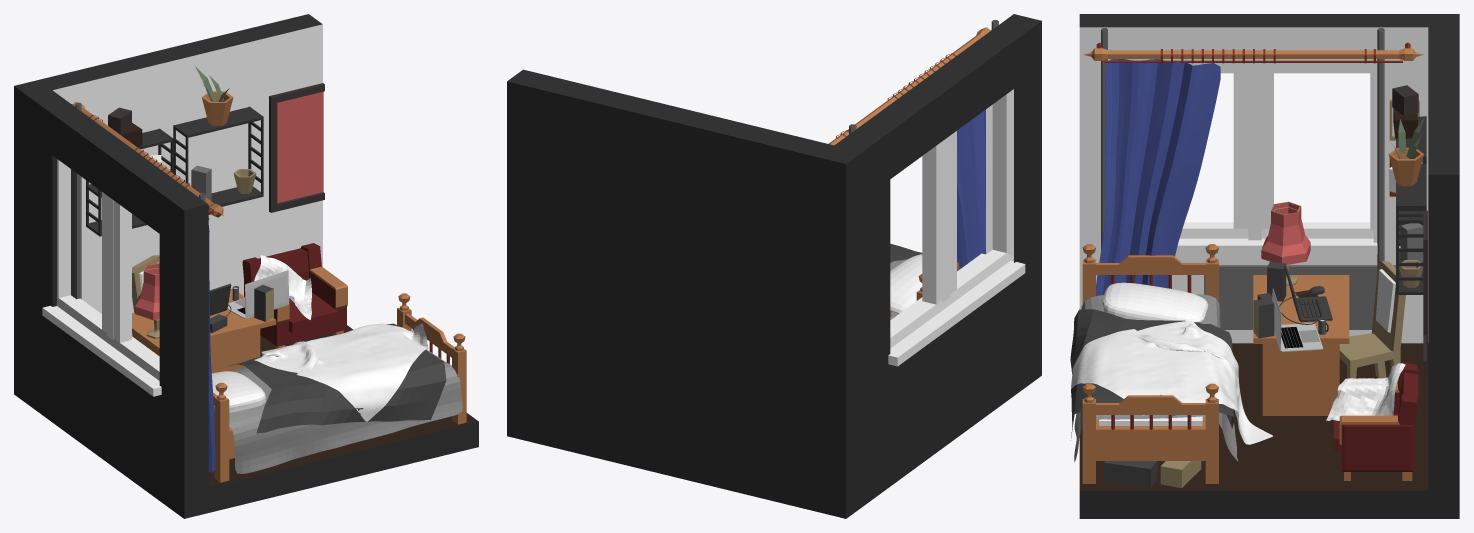
Rendered from isometric_test.glb.
3 views of the same model, side by side, from view 1: azimuth 30°, elevation 25°; view 2: azimuth 150°, elevation 25°; view 3: azimuth 270°, elevation 25° (orthographic). The views are drawn at different scales.
Parts seen in each view (by area): view 1: Cube_2, Cube_0, Plane.007_0, Cube.023_0, Cube.011_0, Cube.007_0, Cube.037_1, Cube.021_0, Cube.001_0, Cube_1, Cube.010_0, Cube.037_0 (+17 smaller); view 2: Cube_2, Cube.011_0, Cylinder.006_0, Cube.010_0, Cube.012_0, Cube.008_0, Cube_0, Cylinder.004_0; view 3: Cube_2, Cube_0, Cylinder.006_0, Cube_1, Plane.007_0, Cube.001_0, Cube.011_0, Cube.021_0, Cube.016_0, Cube.003_0, Cube.009_0, Cube.023_0 (+31 smaller).
Boxes of the visible parts, left/top/right/bottom form: Cube_2: left=14, top=14, right=478, bottom=518; Cube_0: left=53, top=24, right=322, bottom=335; Plane.007_0: left=254, top=323, right=428, bottom=421; Cube.023_0: left=229, top=323, right=446, bottom=433; Cube.011_0: left=56, top=159, right=159, bottom=380; Cube.007_0: left=229, top=349, right=462, bottom=473; Cube.037_1: left=277, top=91, right=323, bottom=203; Cube.021_0: left=242, top=243, right=346, bottom=346; Cube.001_0: left=132, top=288, right=276, bottom=373; Cube_1: left=208, top=325, right=478, bottom=487; Cube.010_0: left=42, top=298, right=161, bottom=396; Cube.037_0: left=269, top=83, right=324, bottom=212; Cube_2: left=507, top=14, right=1041, bottom=518; Cube.011_0: left=890, top=89, right=1013, bottom=348; Cylinder.006_0: left=957, top=109, right=985, bottom=271; Cube.010_0: left=888, top=253, right=1025, bottom=366; Cube.012_0: left=890, top=254, right=922, bottom=313; Cube.008_0: left=942, top=136, right=949, bottom=302; Cube_0: left=986, top=105, right=1013, bottom=261; Cylinder.004_0: left=828, top=27, right=991, bottom=145; Cube_2: left=1079, top=14, right=1459, bottom=518; Cube_0: left=1079, top=27, right=1428, bottom=343; Cylinder.006_0: left=1096, top=59, right=1220, bottom=295; Cube_1: left=1079, top=343, right=1428, bottom=490; Plane.007_0: left=1071, top=321, right=1272, bottom=444; Cube.001_0: left=1253, top=275, right=1349, bottom=415; Cube.011_0: left=1179, top=73, right=1373, bottom=238; Cube.021_0: left=1334, top=362, right=1418, bottom=471; Cube.016_0: left=1204, top=265, right=1395, bottom=329; Cube.003_0: left=1096, top=417, right=1205, bottom=460; Cube.009_0: left=1096, top=255, right=1205, bottom=414; Cube.023_0: left=1070, top=309, right=1234, bottom=440.
Size of the model in its own units: 2.24 by 2.18 by 2.23.
